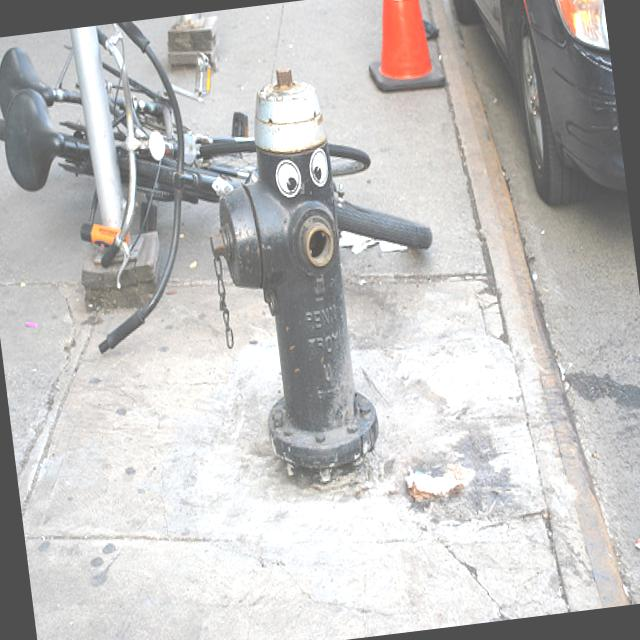Vehicle: (447, 0, 627, 217)
